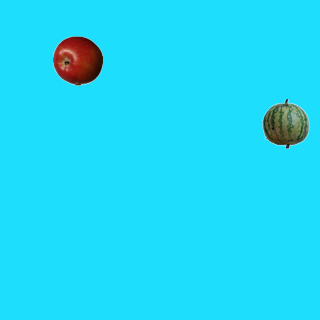Apple Braeburn: (52, 35, 102, 85)
Watermelon: (260, 98, 310, 148)
